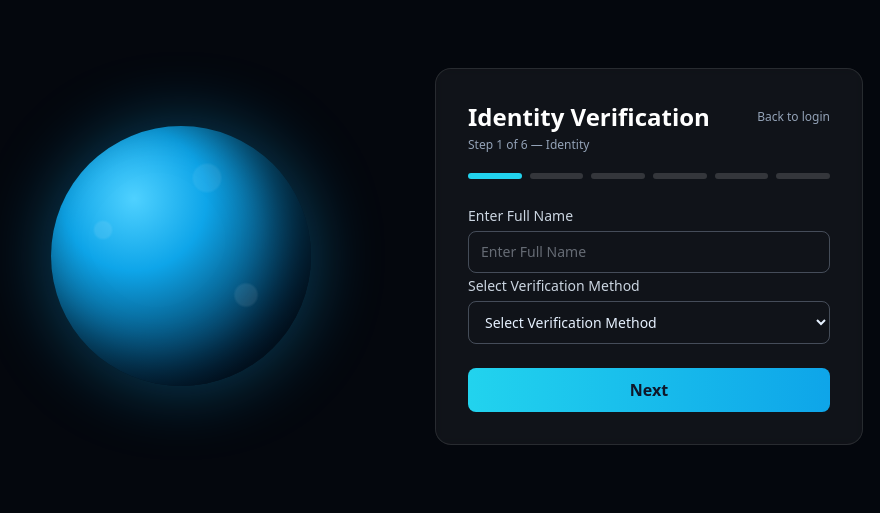
Test: Register › filters non-digit characters and enforces the 6-9 start on the phone field
Step 1. Type "Aarav Sharma" into the field with placeholder "Enter Full Name" → point(649, 252), box [468,230,830,272]
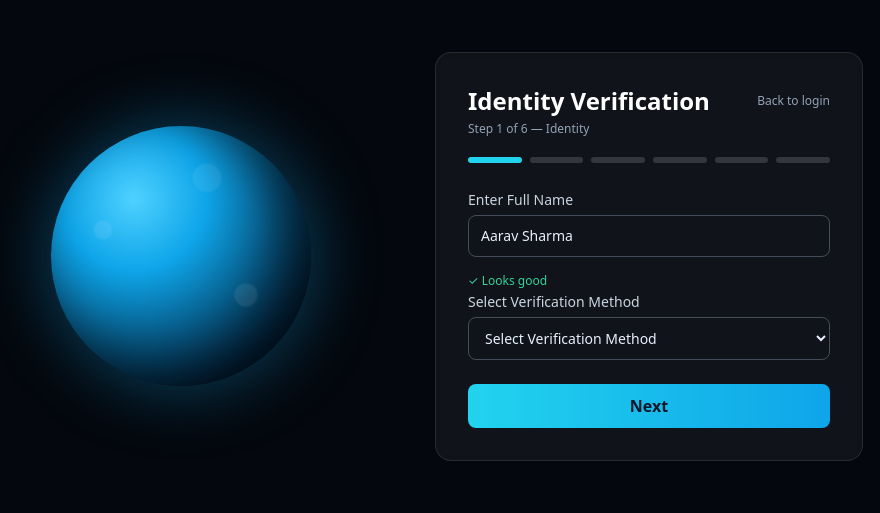
Step 2. Select "Aadhaar" in the dropdown labelled "Select Verification Method" → point(649, 338), box [468,316,830,360]
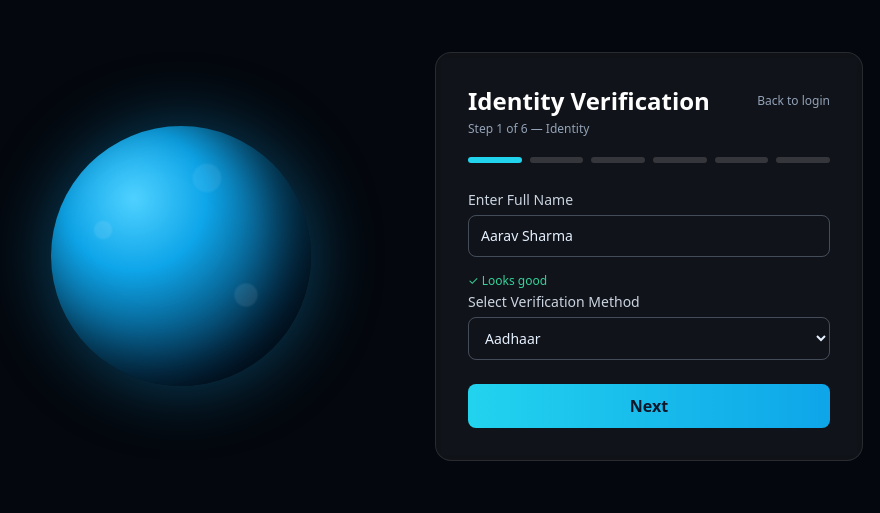
Step 3. Click the button "Next" → point(649, 406), box [468,384,830,428]
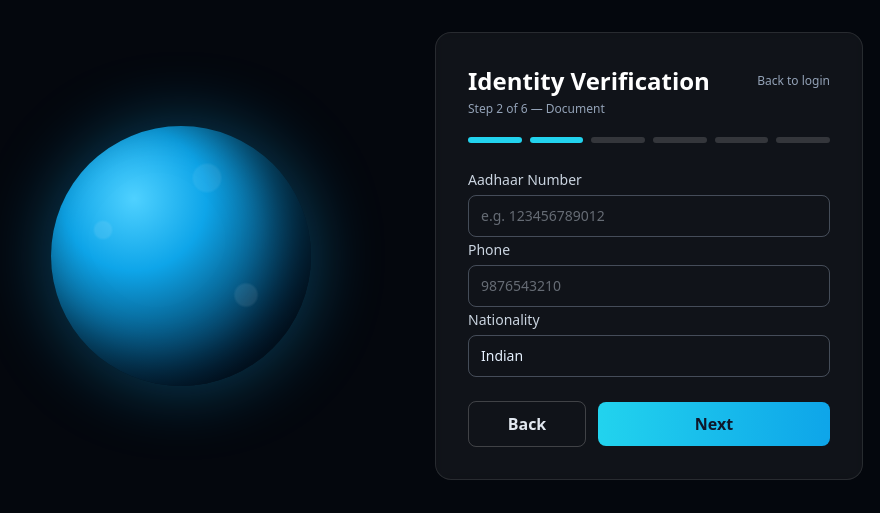
Step 4. Type "98765abc10" into the field labelled "Phone" → point(649, 286), box [468,265,830,307]
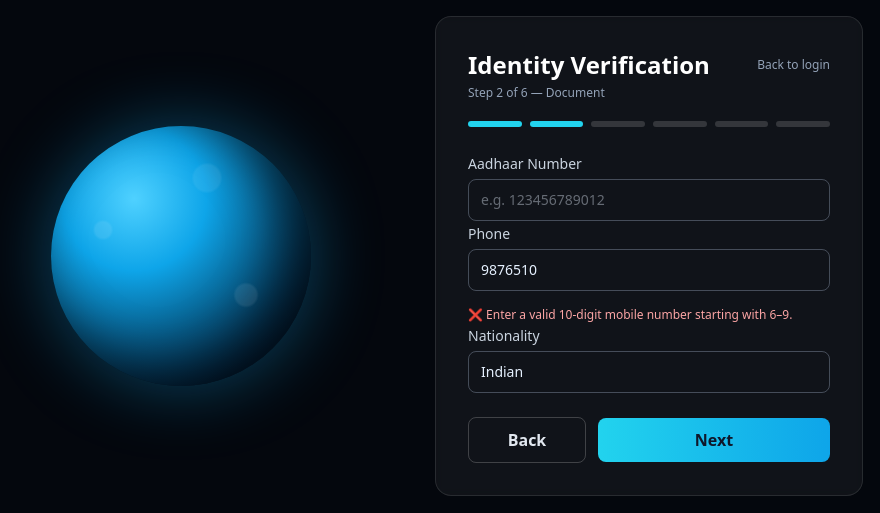
Expected: the field labelled "Phone" holds "9876510", [468,249,830,291]
